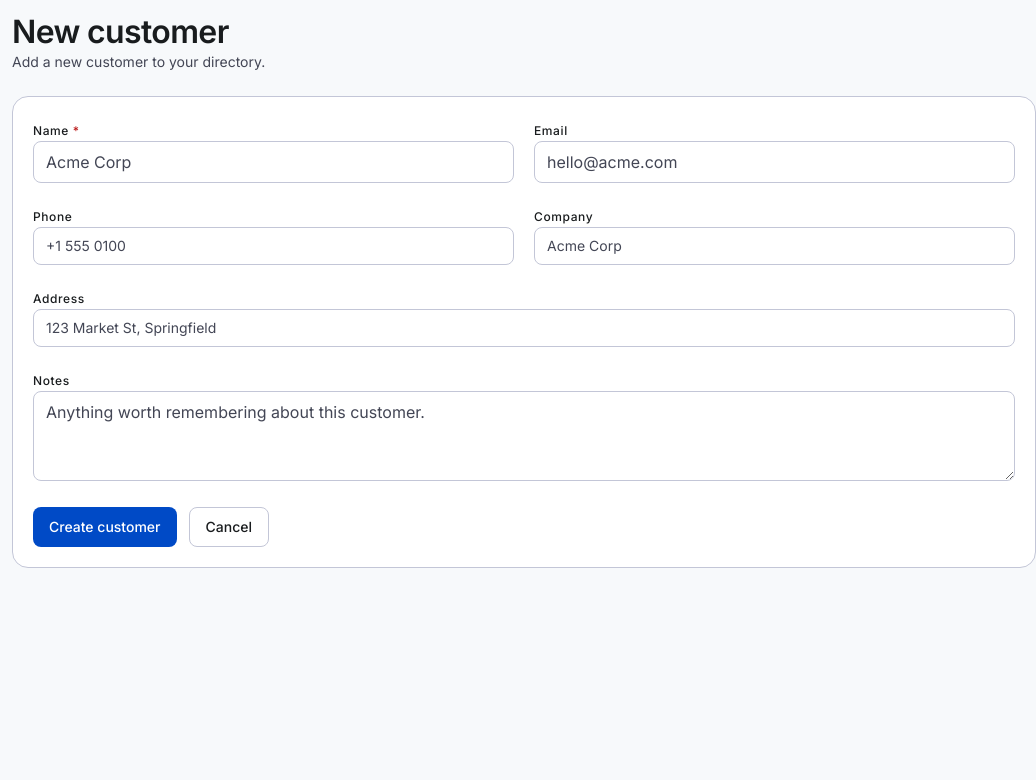
it: CustomerForm — error handling › shows the ApiError message when the service rejects
Type "Bob" into the field labelled "Name *" at (274, 162), box [33,141,514,183]
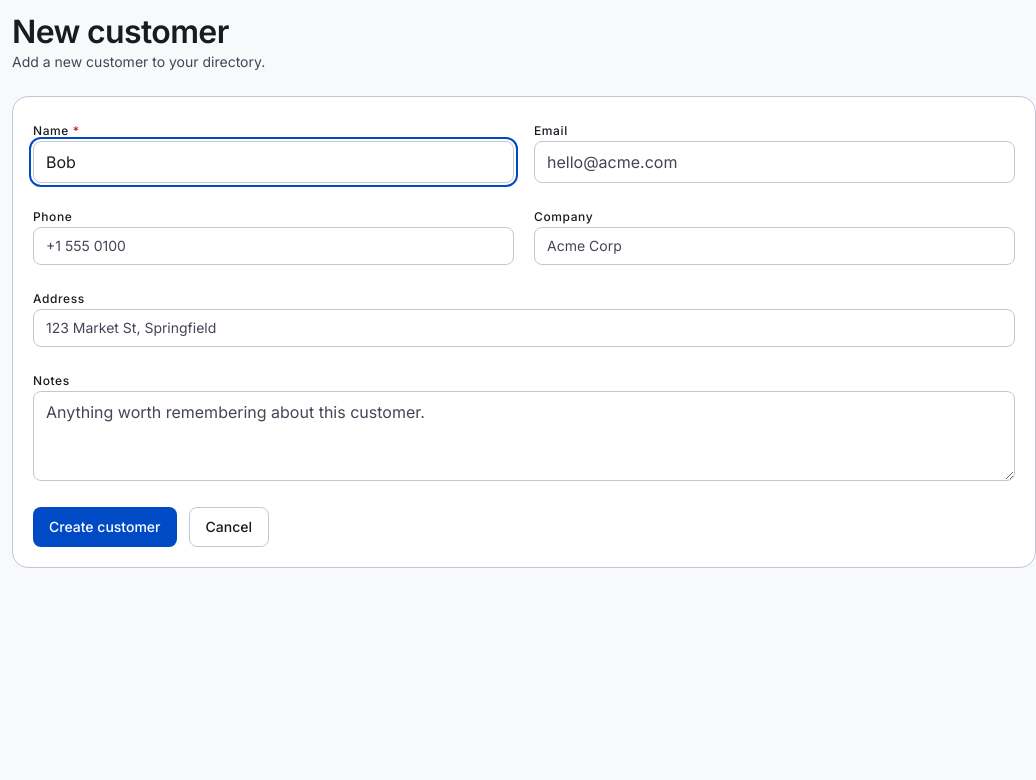
Click the button "Create customer" at (105, 527), box [33,507,176,547]
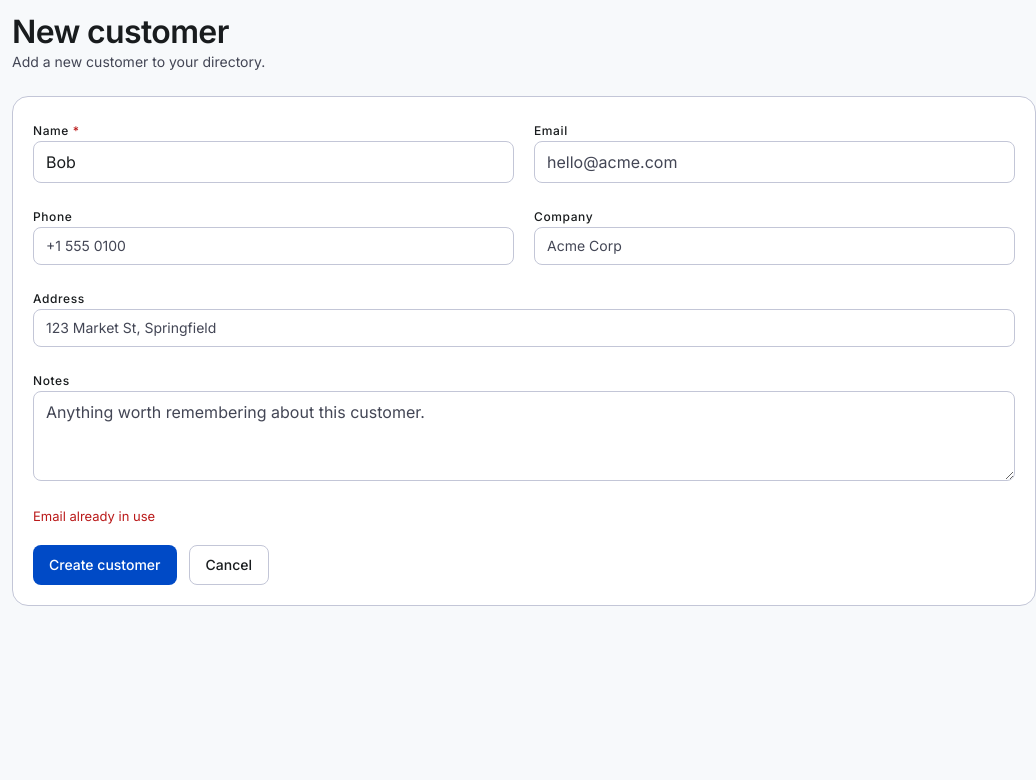
Now the message reads "Email already in use", box [33,508,155,524]
